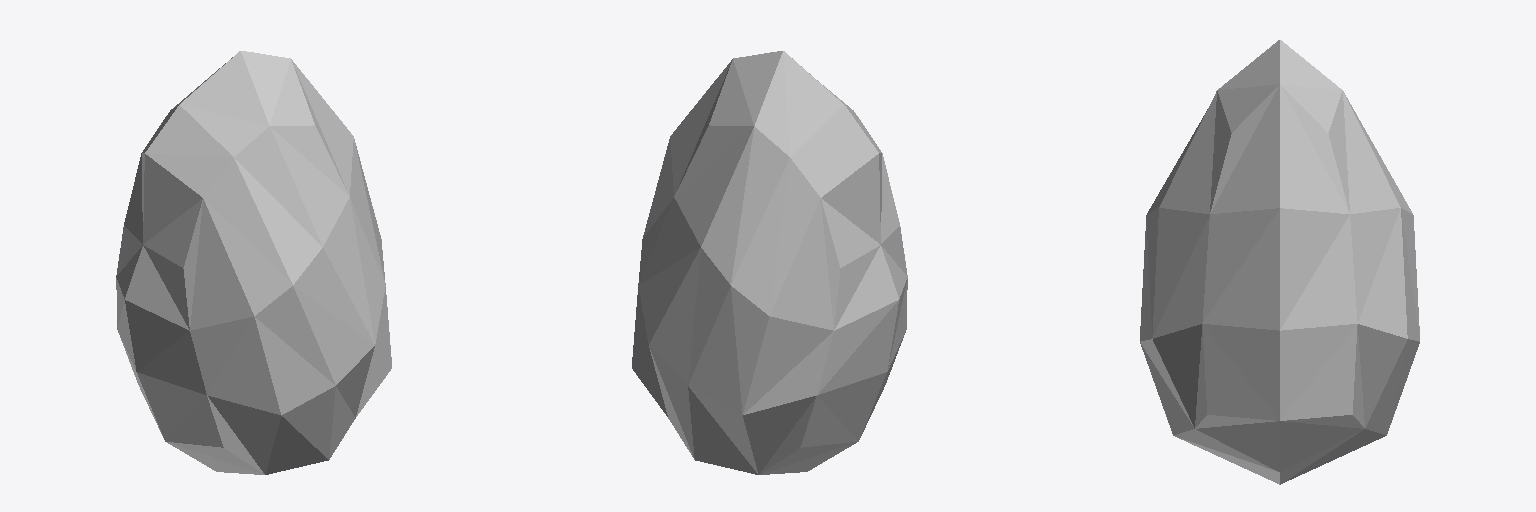
File: FB_SpecialPowerup_Prop.obj
3 renders of one model, left to right at view 1: azimuth 30°, elevation 25°; view 2: azimuth 150°, elevation 25°; view 3: azimuth 270°, elevation 25°, orthographic.
Parts seen in each view (by area): view 1: SpecialPowerup; view 2: SpecialPowerup; view 3: SpecialPowerup.
Boxes of the visible parts, <box> form: SpecialPowerup: <box>116,51,391,474</box>; SpecialPowerup: <box>632,51,907,474</box>; SpecialPowerup: <box>1140,40,1419,484</box>.
Bounding box in the file's own units: 62.2 × 94.76 × 57.58.